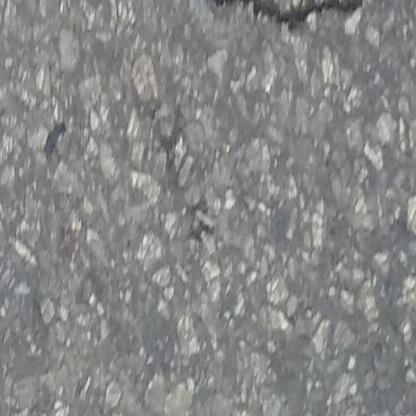Cracks: (195, 0, 395, 31)
